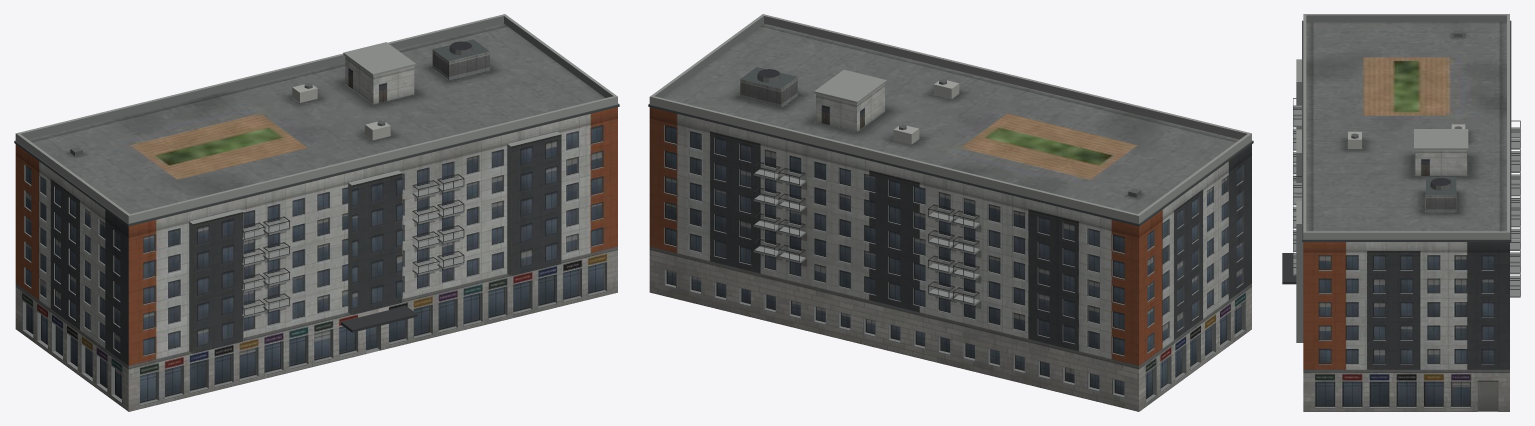
Rendered from seattle_podium_a.glb.
3 renders of one model, left to right at view 1: azimuth 30°, elevation 25°; view 2: azimuth 150°, elevation 25°; view 3: azimuth 270°, elevation 25°, orthographic. The views are drawn at different scales.
Parts seen in each view (by area): view 1: seattle_podium_a; view 2: seattle_podium_a; view 3: seattle_podium_a.
Boxes of the visible parts, x1,y1,x2,y2 form: seattle_podium_a: (14, 14, 619, 411); seattle_podium_a: (648, 14, 1253, 411); seattle_podium_a: (1282, 14, 1520, 411).
Bounding box in the file's own units: 60.24 × 25.67 × 27.6.
1 material, 1 textured.
